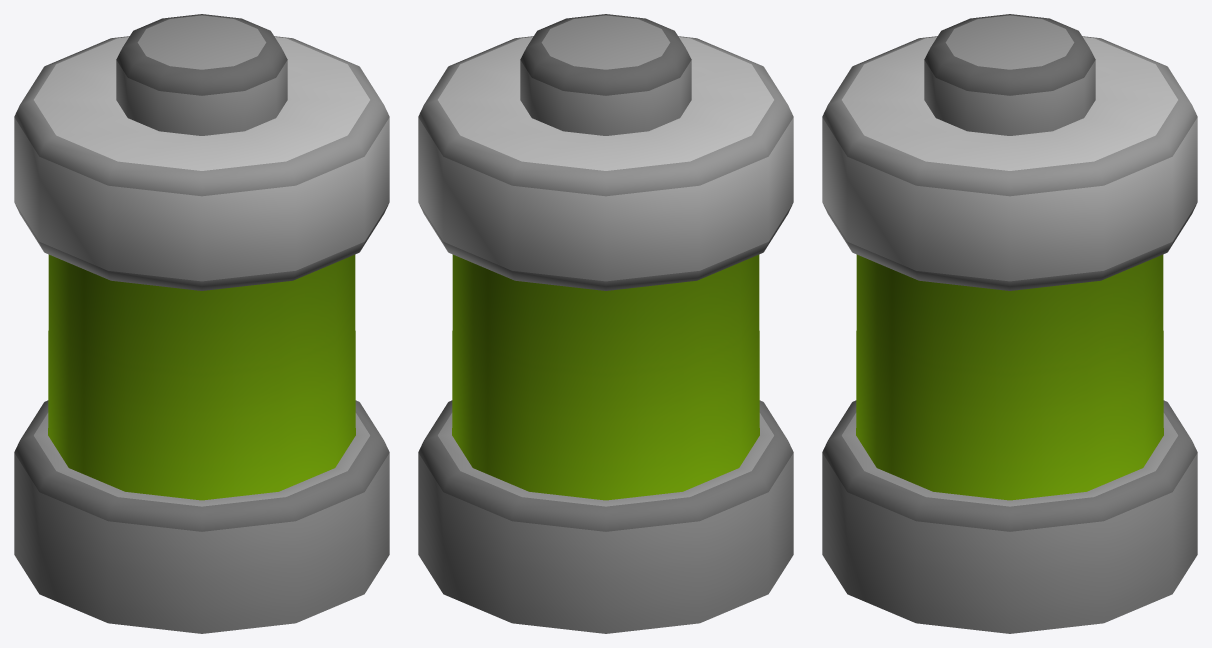
Rendered from Battery_V1_00.fbx.
3 renders of one model, left to right at view 1: azimuth 30°, elevation 25°; view 2: azimuth 150°, elevation 25°; view 3: azimuth 270°, elevation 25°, orthographic.
Visible parts, largest first — view 1: Battery_V1_00; view 2: Battery_V1_00; view 3: Battery_V1_00.
Part boxes in pixels (box(x1,y1,x2,y2)): Battery_V1_00: box(14, 14, 389, 633); Battery_V1_00: box(418, 14, 793, 633); Battery_V1_00: box(822, 14, 1197, 633).
Bounding box in the file's own units: 26.53 × 39.91 × 26.53.
